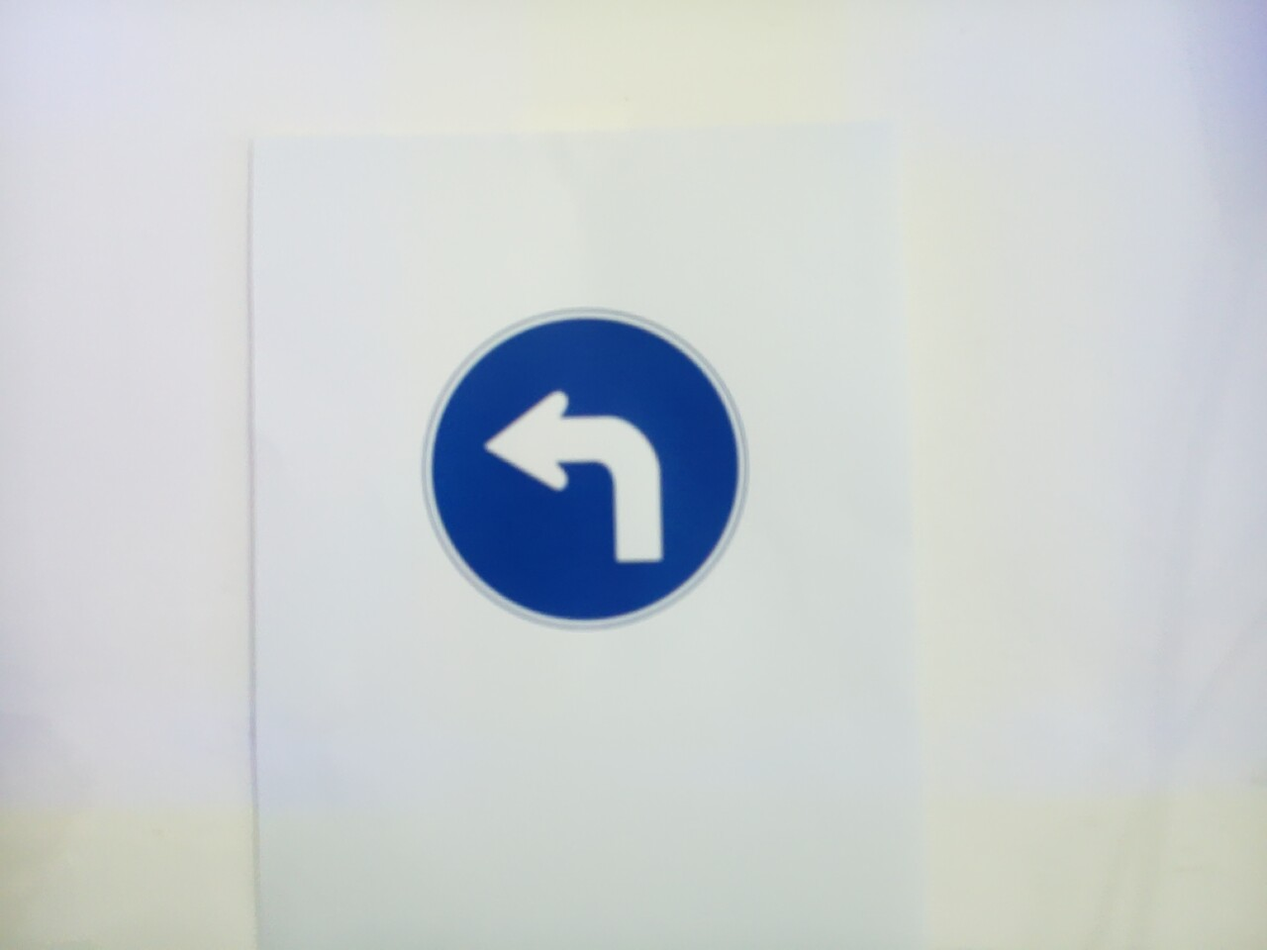left_turn: (422, 308, 748, 630)
